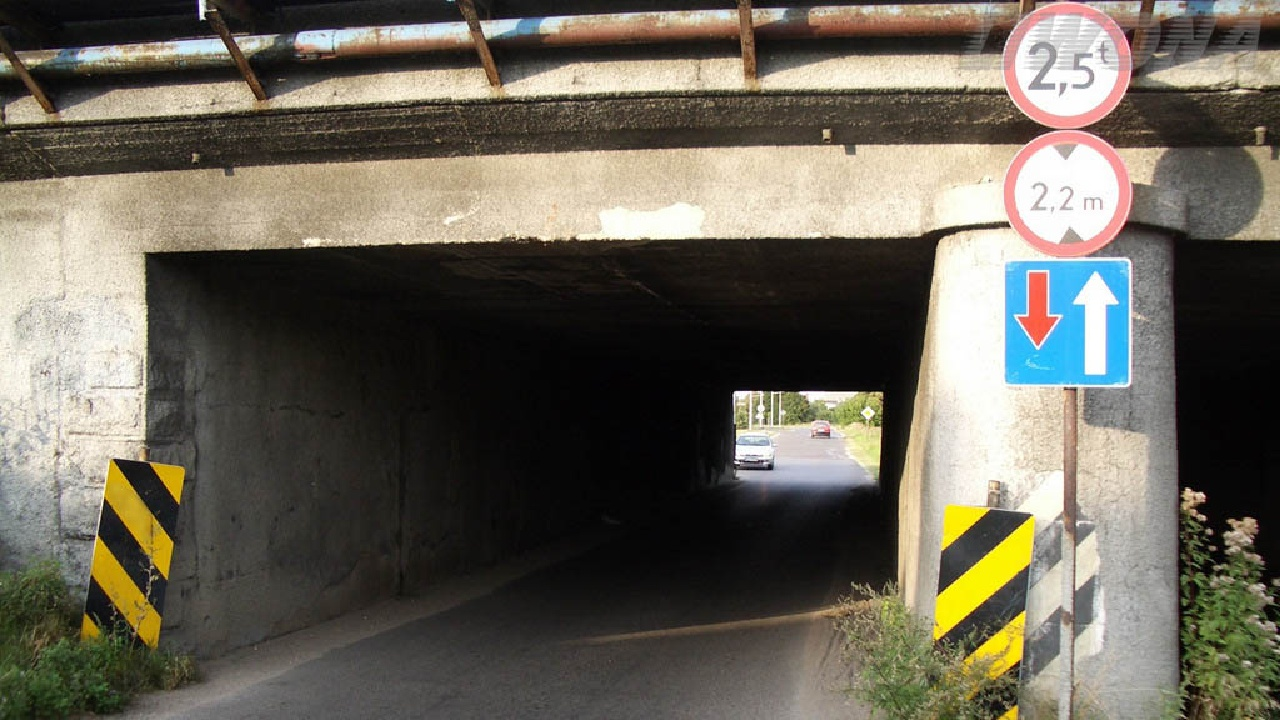D5: (1005, 260, 1130, 387)
